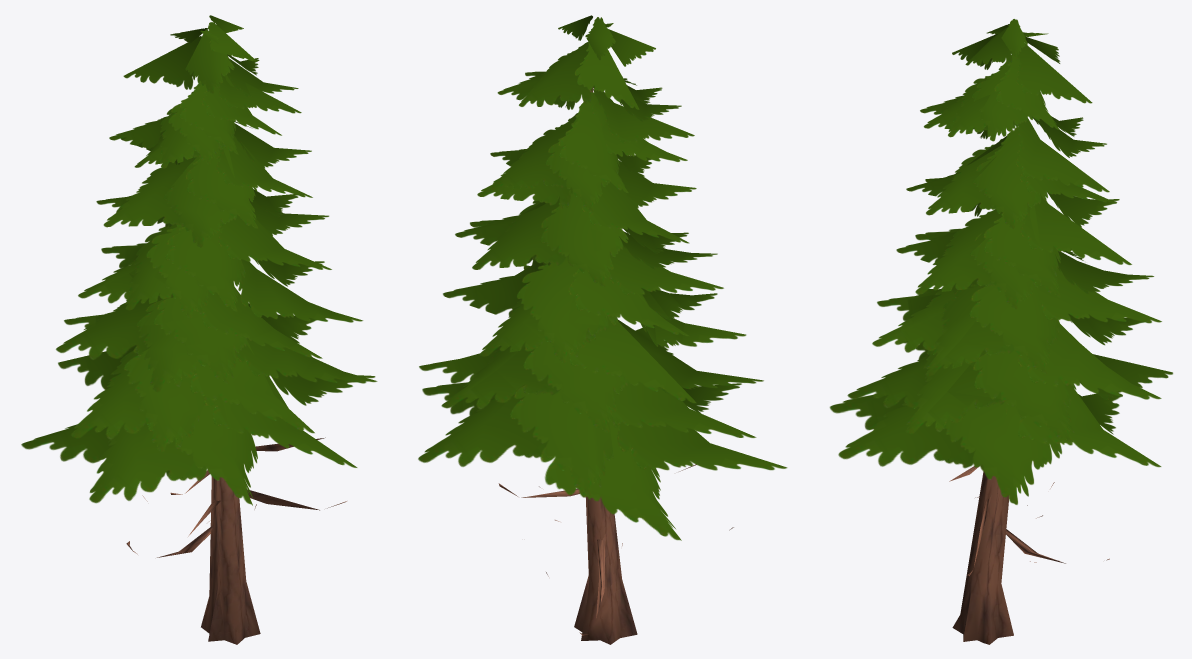
The model's file is Pine1.glb.
3 renders of one model, left to right at view 1: azimuth 30°, elevation 25°; view 2: azimuth 150°, elevation 25°; view 3: azimuth 270°, elevation 25°, orthographic. The views are drawn at different scales.
Parts seen in each view (by area): view 1: Pine_4; view 2: Pine_4; view 3: Pine_4.
Part boxes in pixels (x1,y1,x2,y2): Pine_4: (21,15,377,644); Pine_4: (418,15,787,644); Pine_4: (829,19,1173,644).
Size of the model in its own units: 5.8 by 10.24 by 5.37.
2 materials, 2 textured.
